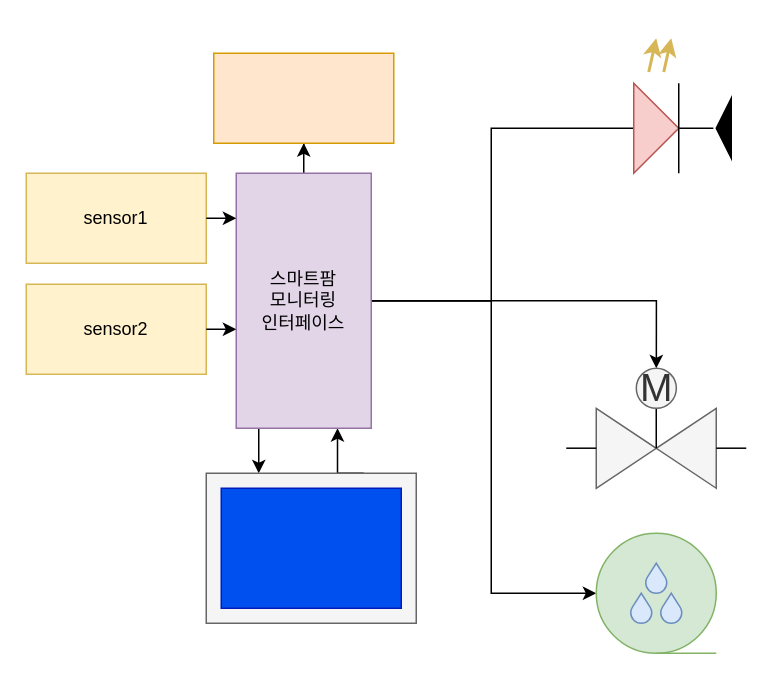
The diagram is 774 pixels wide and 680 high, and some of its shapes have lost their labels. Each missing label, with the box of its shape:
FND: (212, 52, 394, 143)
PC: (220, 487, 401, 608)
